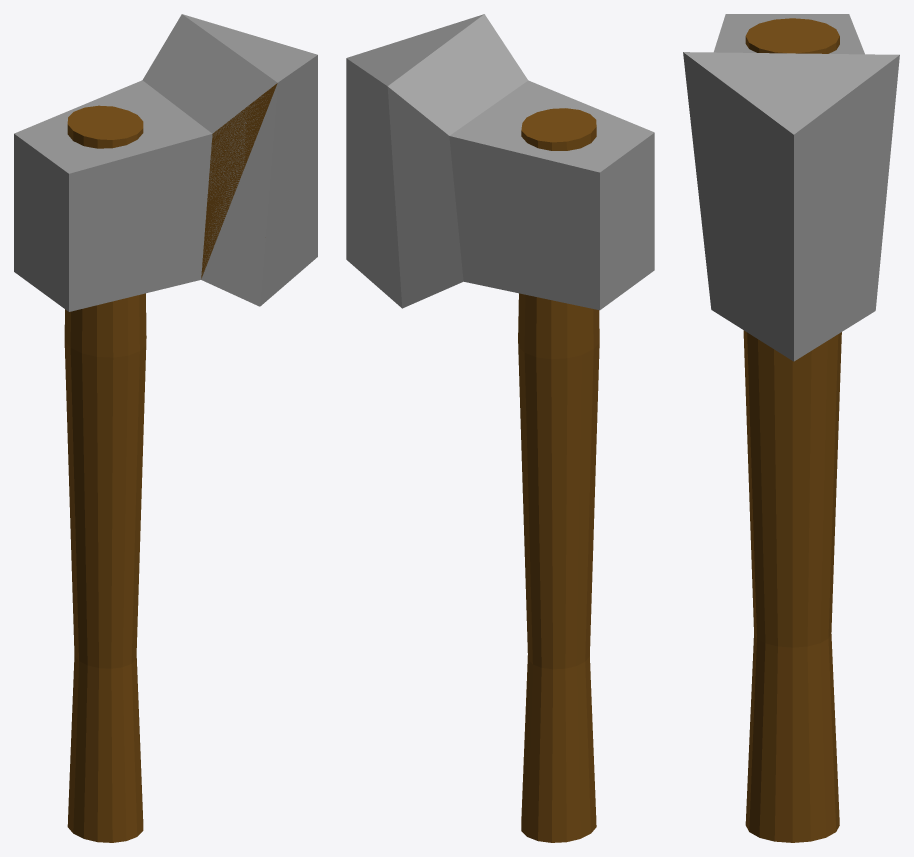
File: Axe.fbx
3 views of the same model, side by side, from view 1: azimuth 30°, elevation 25°; view 2: azimuth 150°, elevation 25°; view 3: azimuth 270°, elevation 25° (orthographic). The views are drawn at different scales.
Visible parts, largest first — view 1: Cylinder; view 2: Cylinder; view 3: Cylinder.
Part boxes in pixels (x1,y1,x2,y2): Cylinder: [14, 14, 317, 842]; Cylinder: [346, 14, 654, 842]; Cylinder: [683, 14, 899, 842].
Bounding box in the file's own units: 93.88 × 240 × 56.22.
